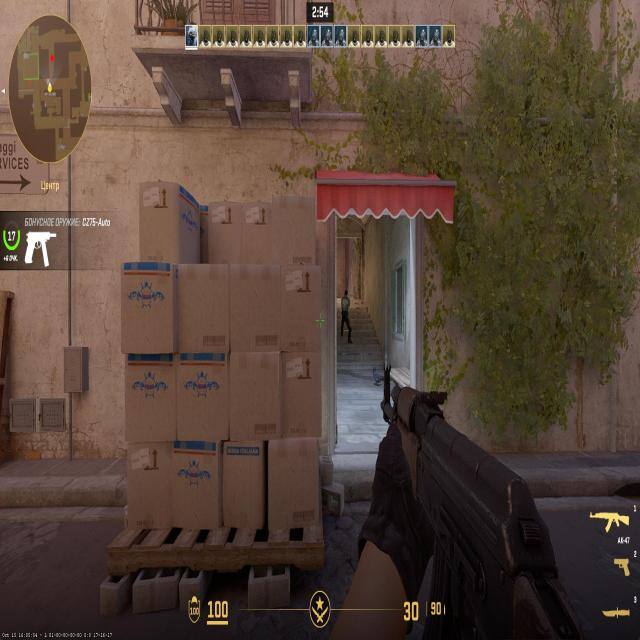T: (344, 288, 352, 334)
T_heat: (343, 290, 348, 300)
